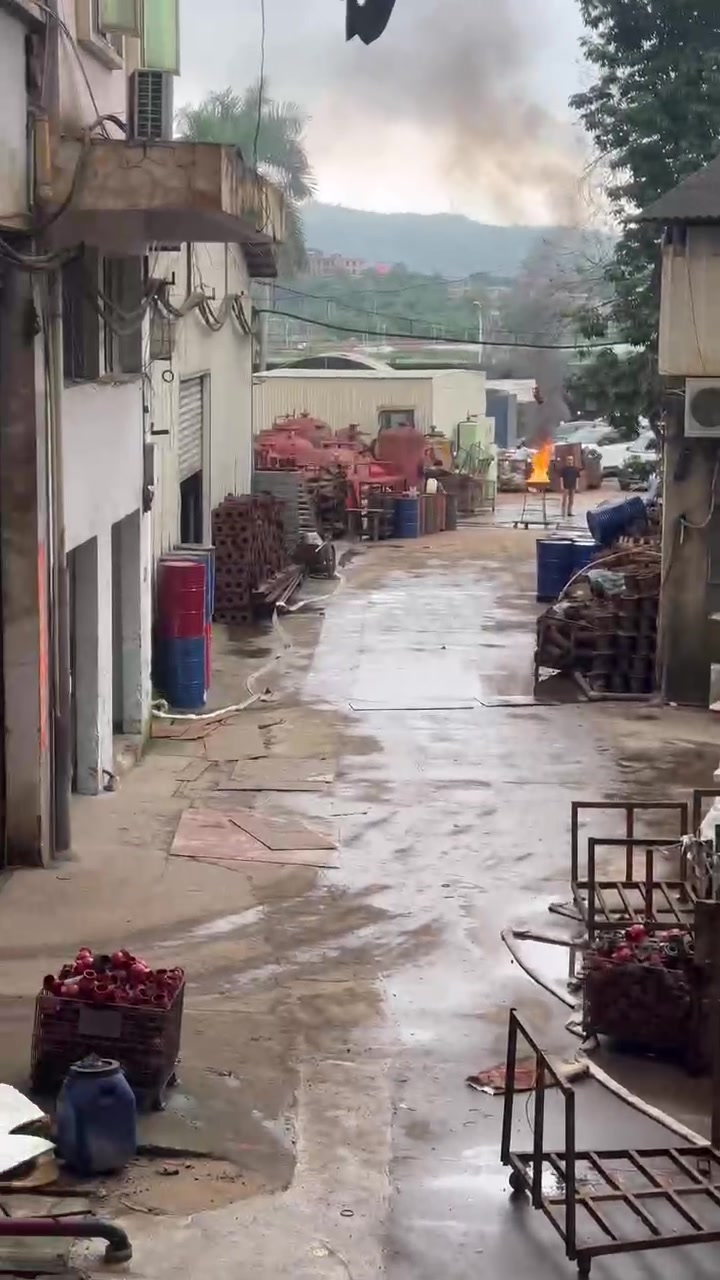fire: (525, 442, 550, 481)
